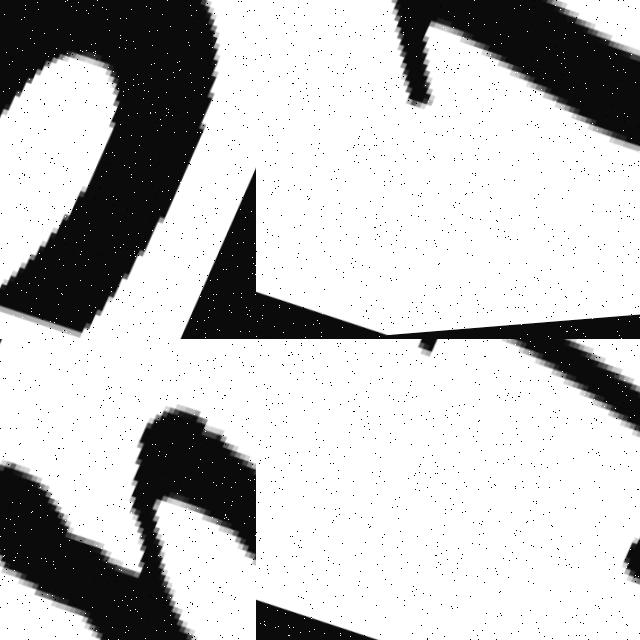B: (0, 411, 256, 640)
F: (256, 339, 640, 640)
I: (256, 0, 640, 228)
S: (0, 0, 256, 339)
